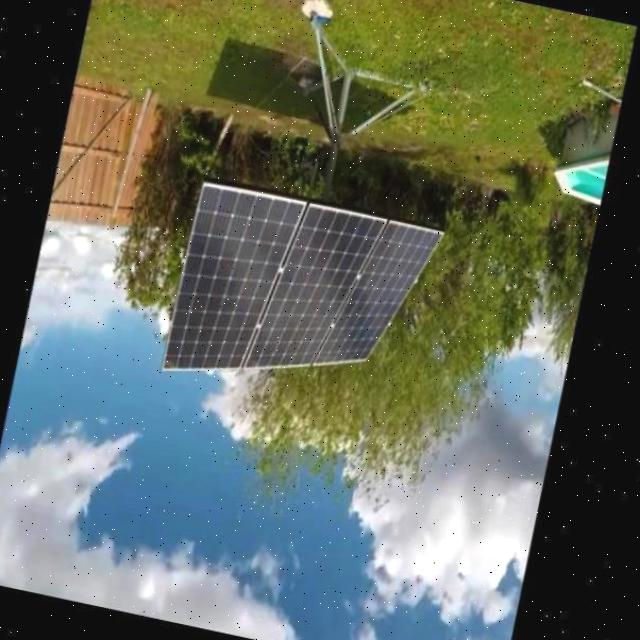Normal Solar Panel: (161, 178, 307, 392), (244, 197, 386, 390), (312, 210, 445, 386)
